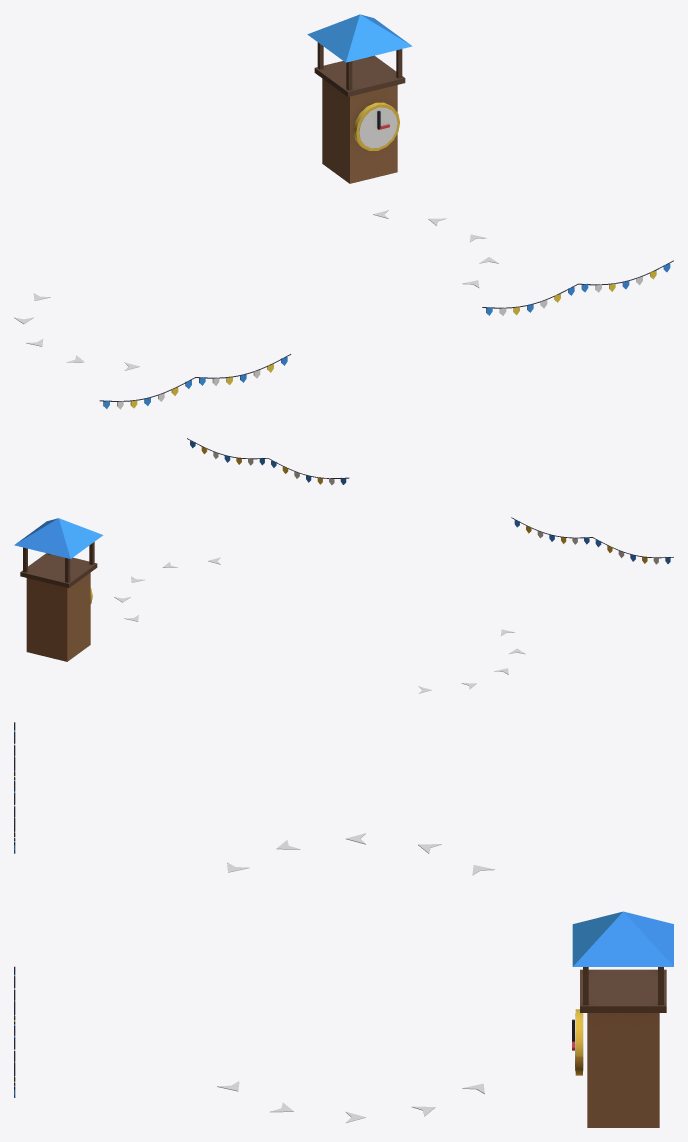
File: area_track_5_5.fbx
The picture shows the model from 3 angles, top to bottom: view 1: azimuth 30°, elevation 25°; view 2: azimuth 150°, elevation 25°; view 3: azimuth 270°, elevation 25°; orthographic projection. The views are drawn at different scales.
Parts seen in each view (by area): view 1: area_track_5_5_body, area_track_5_5_body_glow; view 2: area_track_5_5_body, area_track_5_5_body_glow; view 3: area_track_5_5_body, area_track_5_5_body_glow.
Boxes of the visible parts, left/top/right/bottom form: area_track_5_5_body: left=99, top=14, right=673, bottom=409; area_track_5_5_body_glow: left=14, top=210, right=498, bottom=370; area_track_5_5_body: left=14, top=438, right=673, bottom=661; area_track_5_5_body_glow: left=114, top=557, right=525, bottom=693; area_track_5_5_body: left=14, top=722, right=673, bottom=1127; area_track_5_5_body_glow: left=217, top=833, right=494, bottom=1122.
Size of the model in its own units: 15007 by 3838 by 11413.
2 materials, 1 textured.
